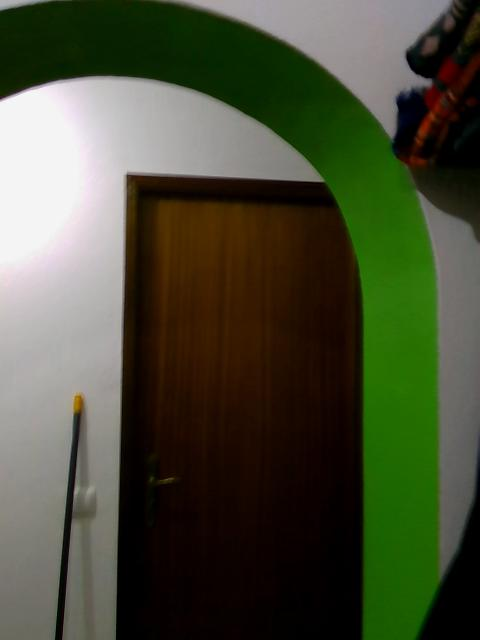closed_door: (121, 171, 363, 639)
